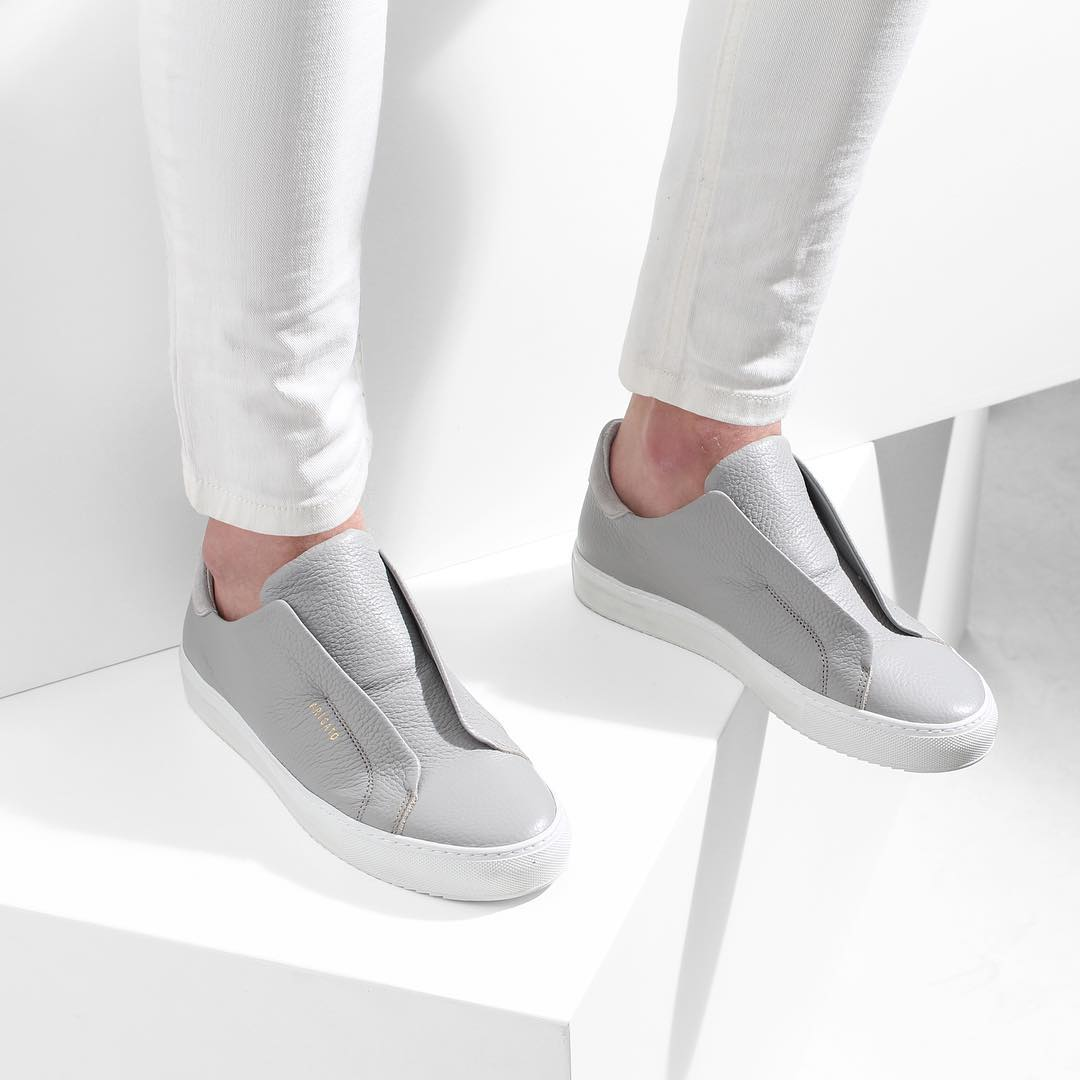sneaker: (140, 422, 610, 939), (543, 360, 1025, 805)
